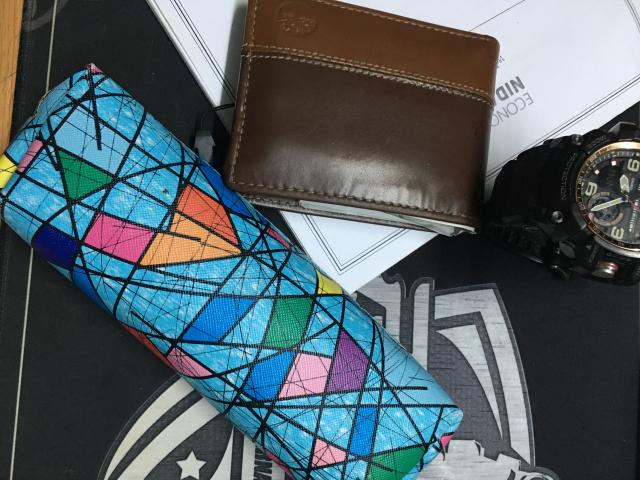Wallet: (225, 0, 500, 231)
Watch: (485, 122, 640, 286)
paper: (346, 0, 640, 200), (284, 214, 432, 290), (149, 0, 246, 105)
